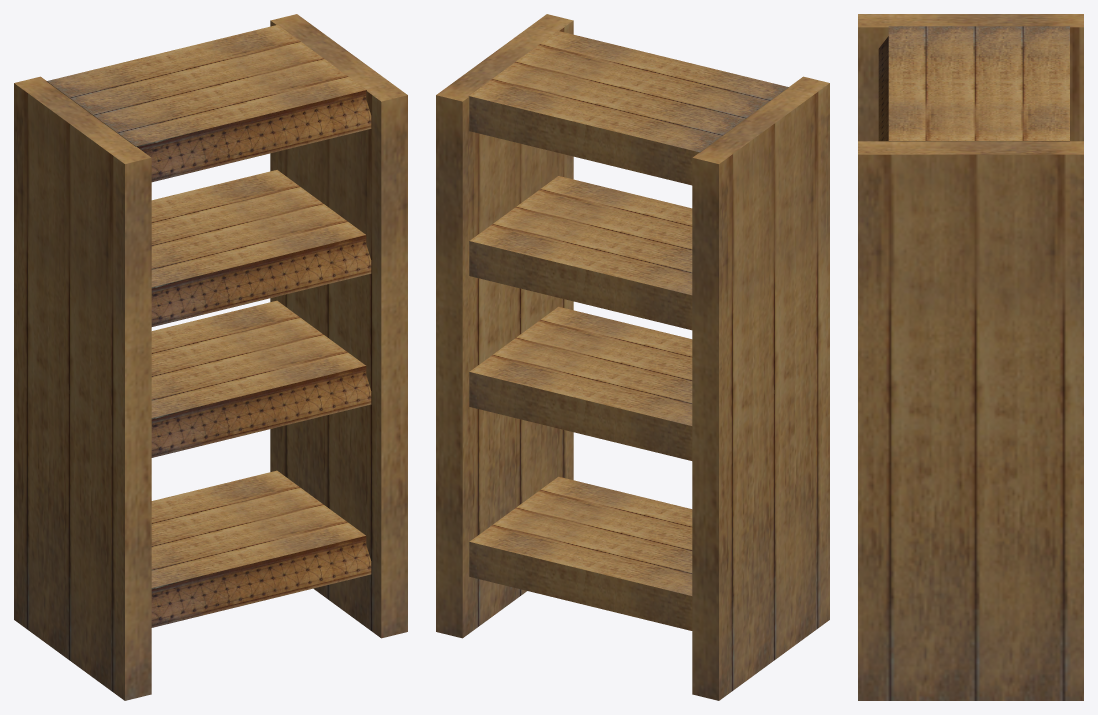
Rendered from ShelvesC.dae.
3 views of the same model, side by side, from view 1: azimuth 30°, elevation 25°; view 2: azimuth 150°, elevation 25°; view 3: azimuth 270°, elevation 25° (orthographic).
Visible parts, largest first — view 1: meshU3D; view 2: meshU3D; view 3: meshU3D.
Part boxes in pixels (x1=…): meshU3D: x1=14, y1=14, x2=407, y2=700; meshU3D: x1=436, y1=14, x2=829, y2=700; meshU3D: x1=858, y1=14, x2=1083, y2=700.
Bounding box in the file's own units: 19.68 × 35.7 × 13.35.
